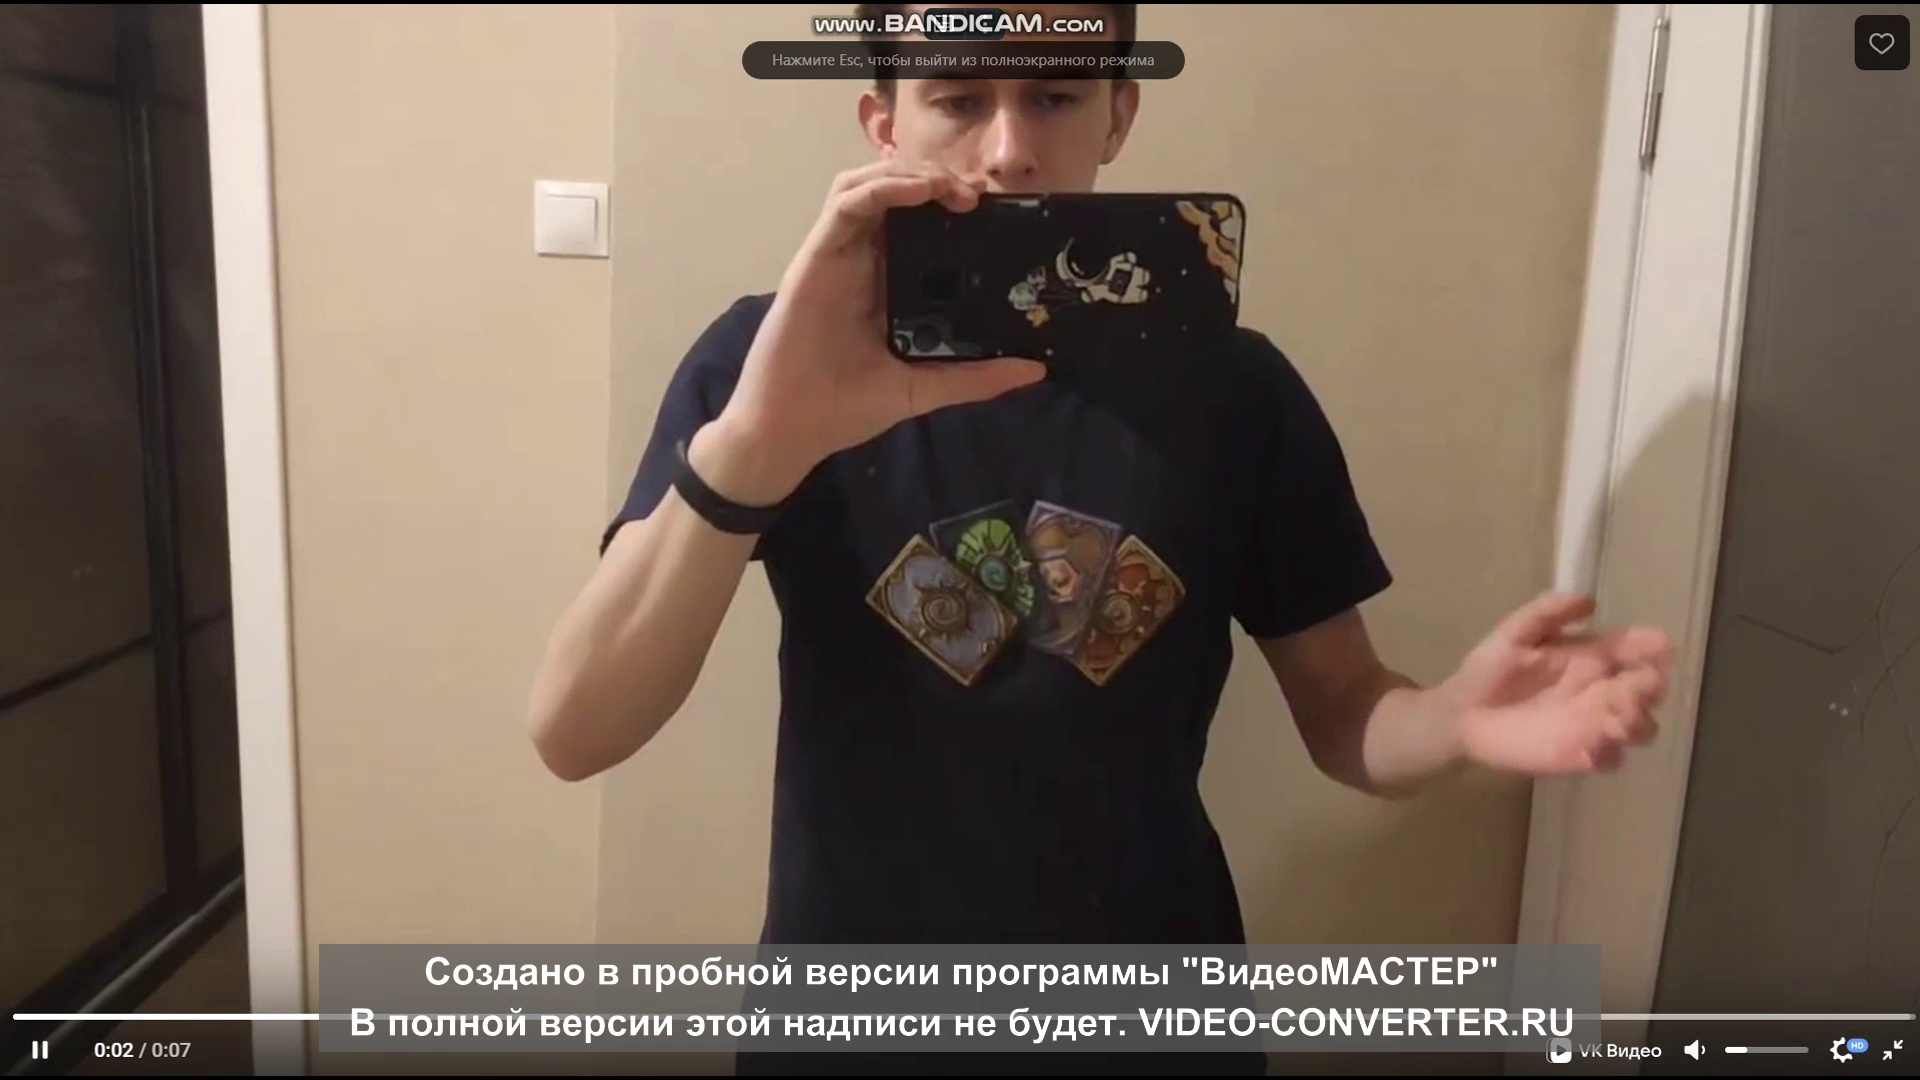Ладонь: (1462, 587, 1681, 775)
